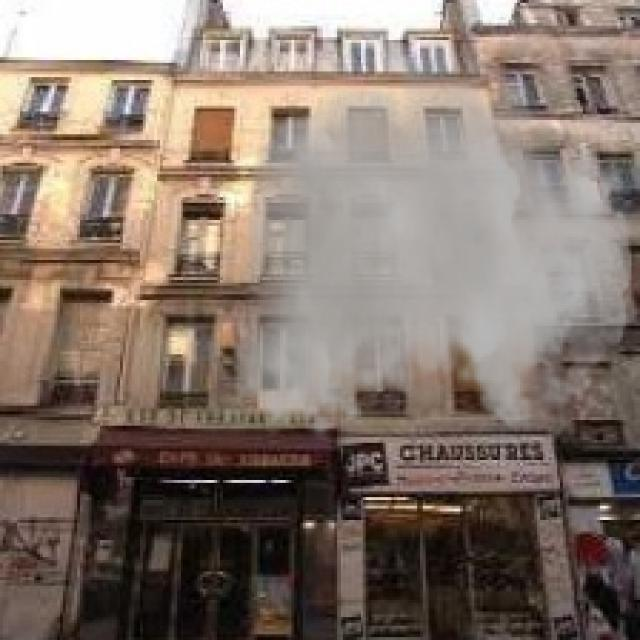Smoke: (228, 28, 632, 440)
